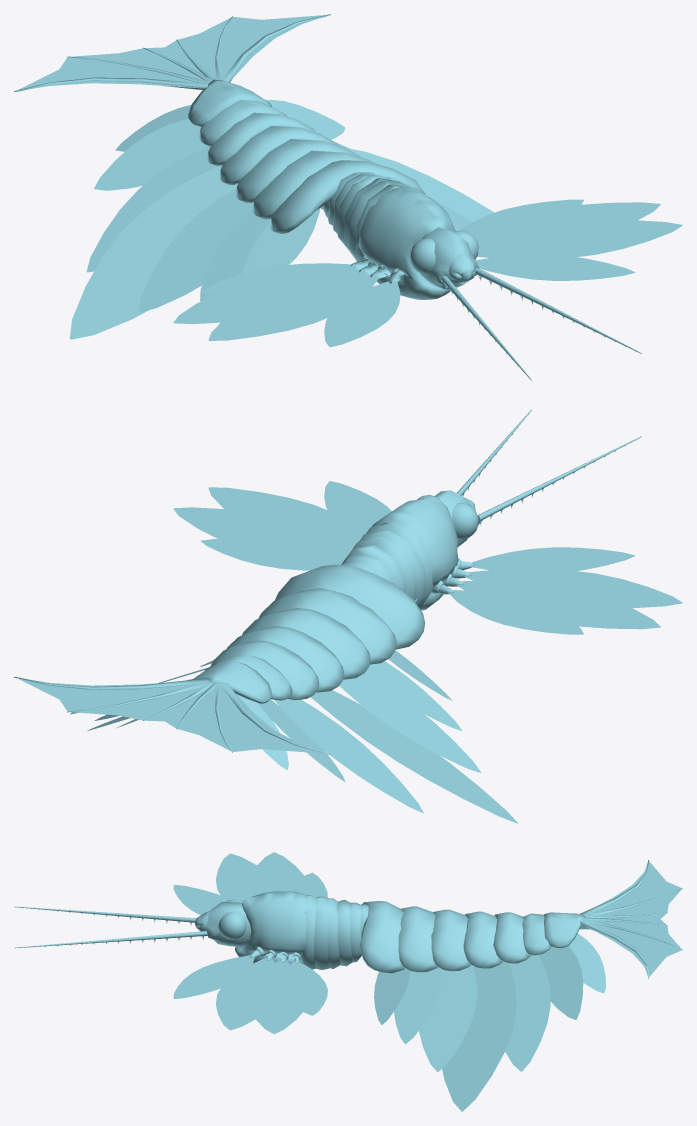
The model's file is TESTING_ONLY_R_Anomalis.fbx.
3 views of the same model, one above another, from view 1: azimuth 30°, elevation 25°; view 2: azimuth 150°, elevation 25°; view 3: azimuth 270°, elevation 25° (orthographic). The views are drawn at different scales.
Parts seen in each view (by area): view 1: back_low; view 2: back_low; view 3: back_low.
Boxes of the visible parts, x1=… form: back_low: x1=14, y1=14, x2=682, y2=380; back_low: x1=14, y1=409, x2=682, y2=823; back_low: x1=14, y1=852, x2=682, y2=1111.
Size of the model in its own units: 226 by 78.19 by 352.
